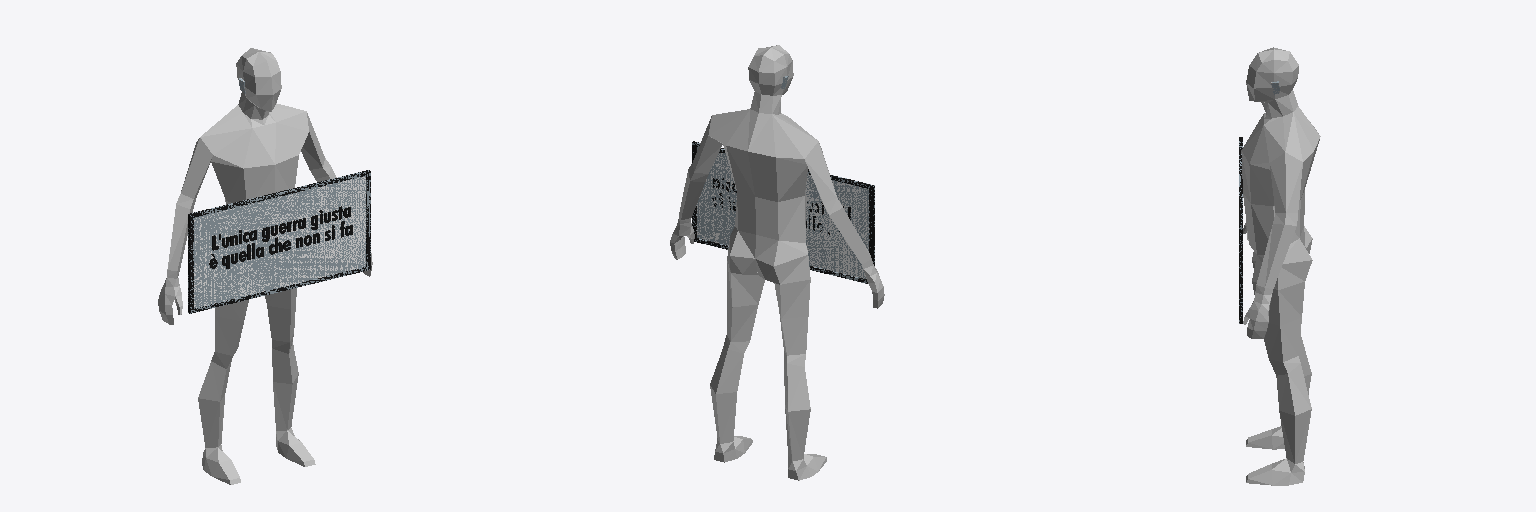
File: Guerra4.obj
3 renders of one model, left to right at view 1: azimuth 30°, elevation 25°; view 2: azimuth 150°, elevation 25°; view 3: azimuth 270°, elevation 25°, orthographic.
Visible parts, largest first — view 1: Guerra3; view 2: Guerra3; view 3: Guerra3.
Part boxes in pixels (bbox=[...]): Guerra3: bbox=[158, 48, 372, 484]; Guerra3: bbox=[670, 45, 884, 480]; Guerra3: bbox=[1239, 47, 1320, 485].
Size of the model in its own units: 0.7211 by 1.37 by 0.2446.